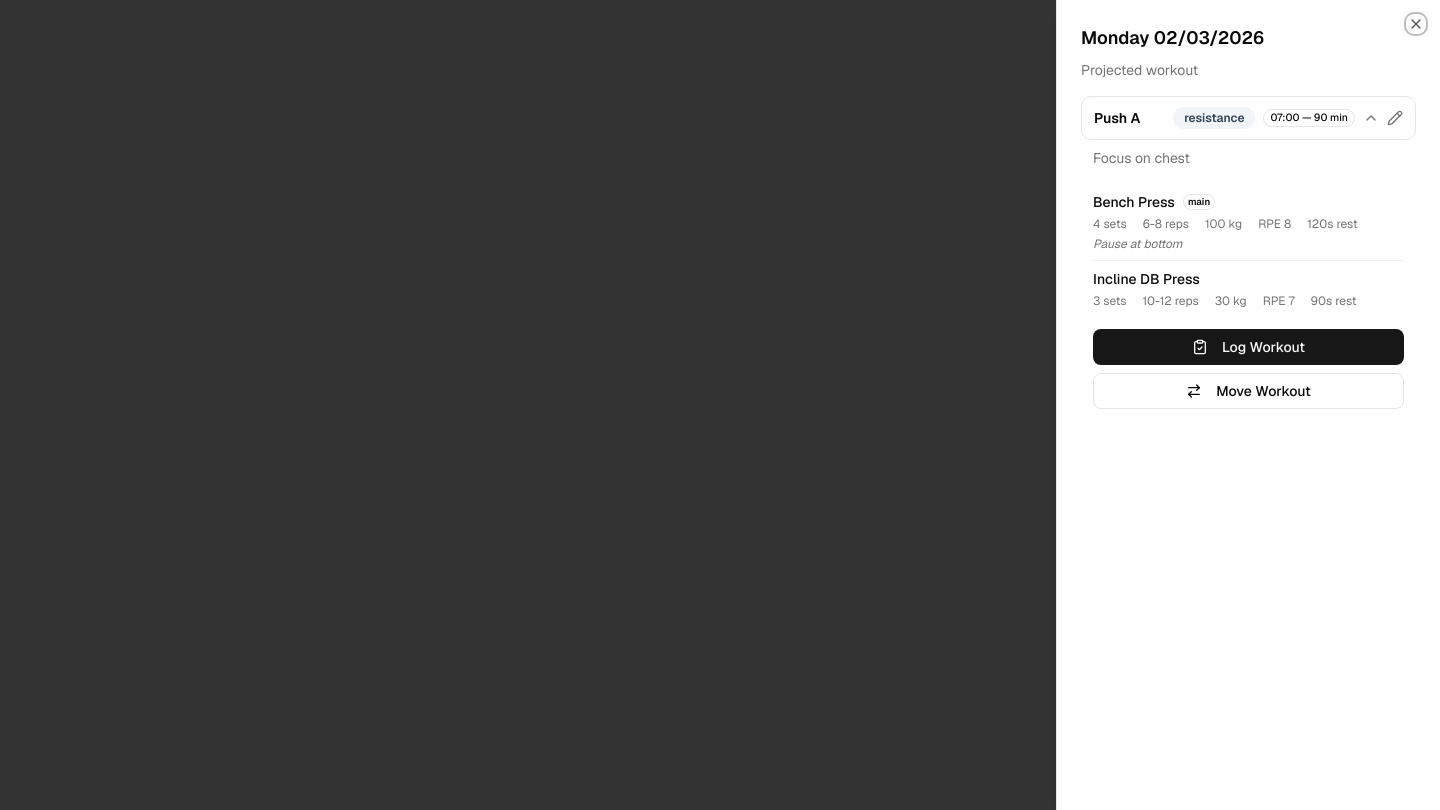
Scenario: DayDetailPanel › Expandable cards (T146) › clicking expanded card header collapses it
The width and height of the screenshot is (1440, 810).
Expected: the number of elements with test id "slot-row" is 2, [1093,184,1404,261]; [1093,270,1356,309]
# Click to collapse
Click the button with test id "workout-card-trigger" at x=1236, y=118, box [1090,103,1383,133]
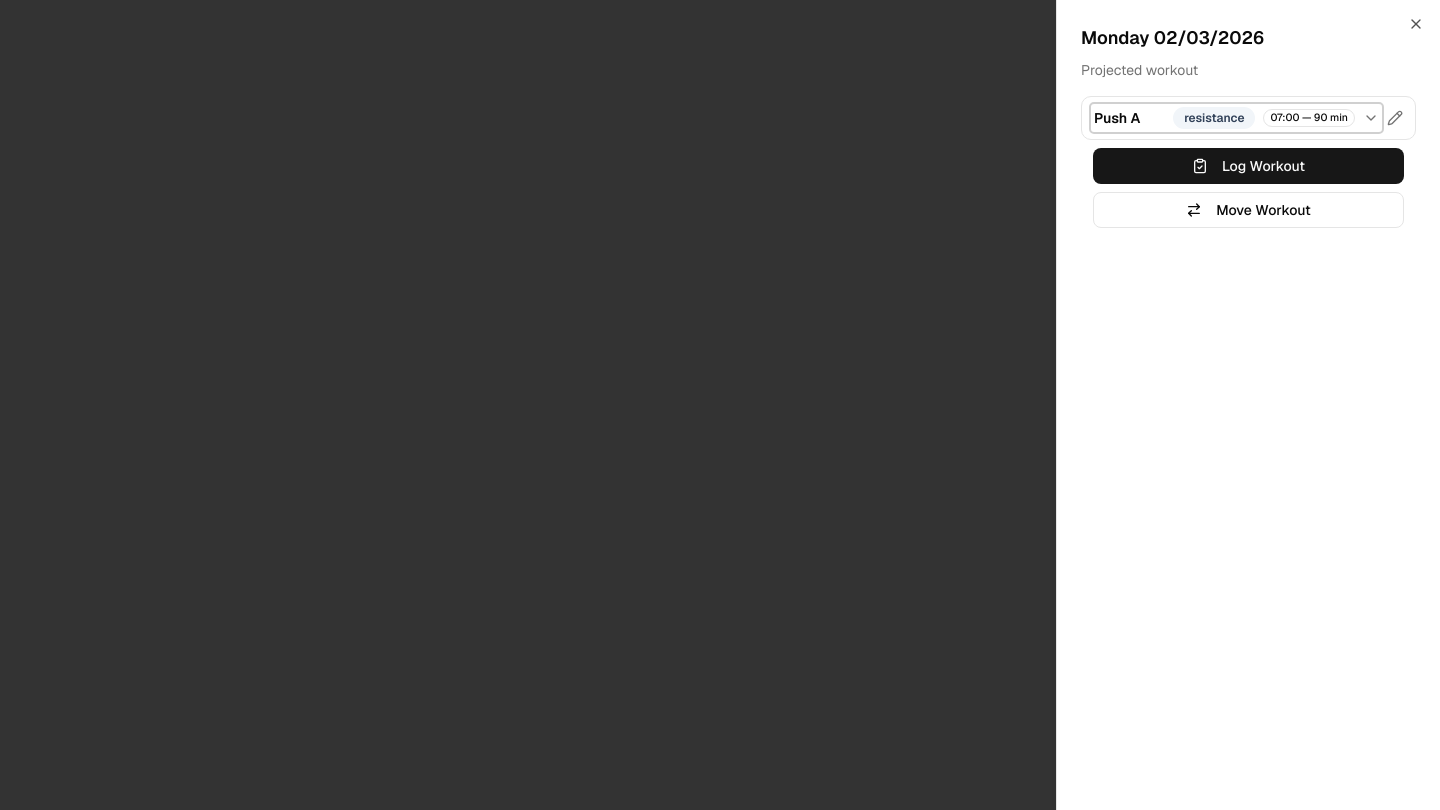
Now the element with test id "slot-row" is gone
